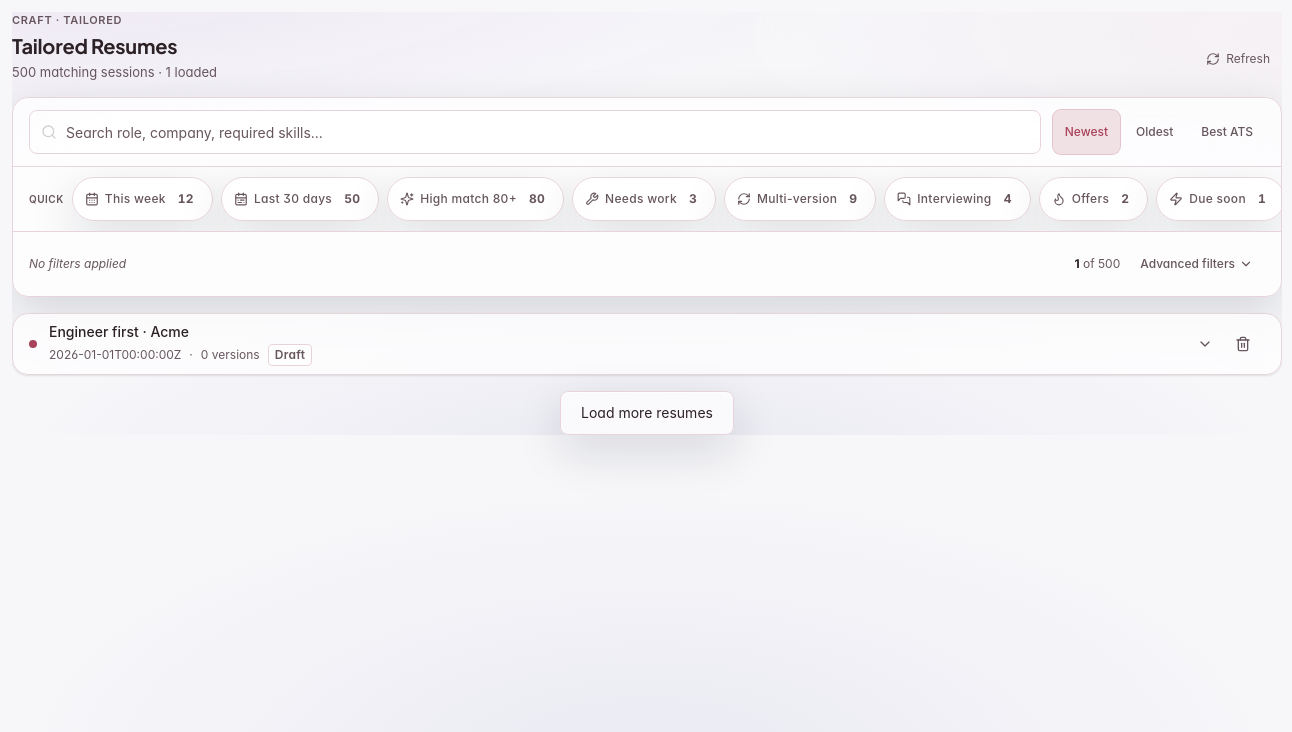
on-demand tailored history › a failed later page keeps existing rows and retries the same cursor
The width and height of the screenshot is (1292, 732).
Expected: the text "Engineer first · Acme" is shown, [49,323,189,340]
Click the button "Load more resumes" at (647, 413), box [560,391,734,435]
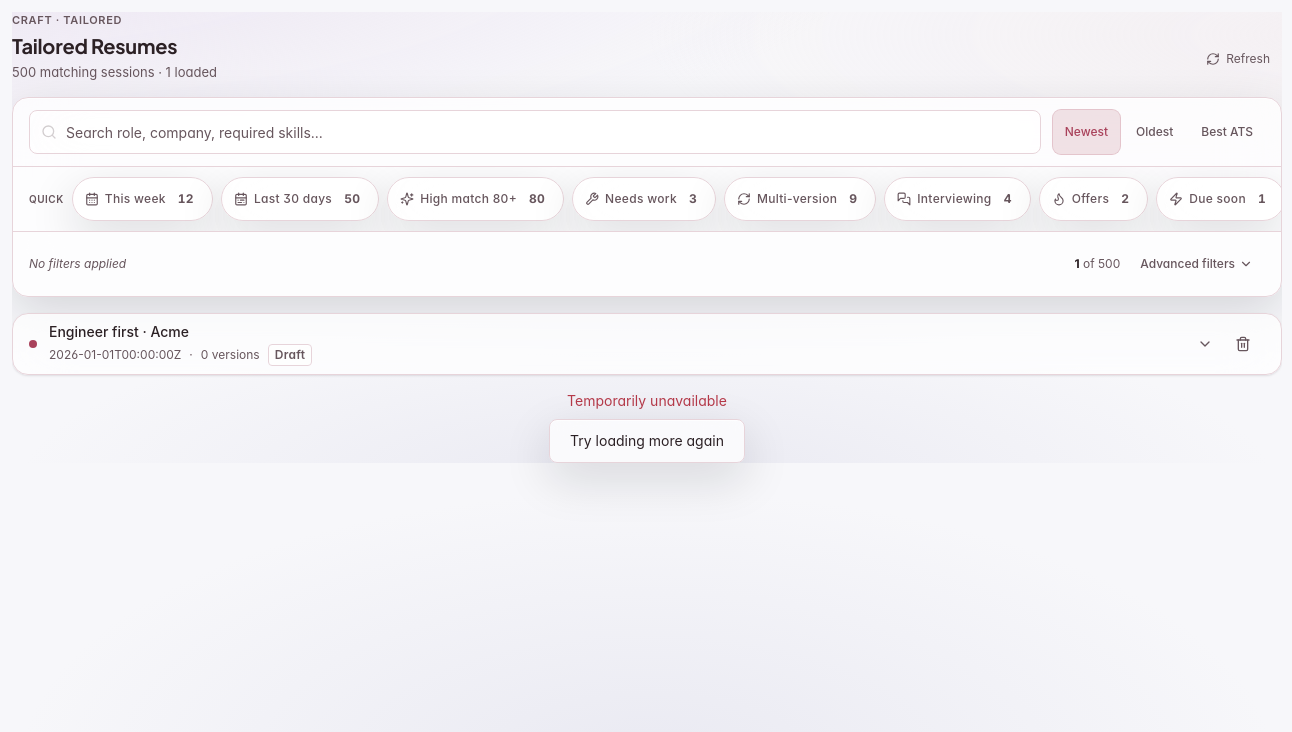
Expected: the text "Engineer first · Acme" is shown, [49,323,189,340]
Now the message "Temporarily unavailable" is shown, box [567,391,727,411]
Click the button "Try loading more again" at (647, 441), box [549,419,745,463]
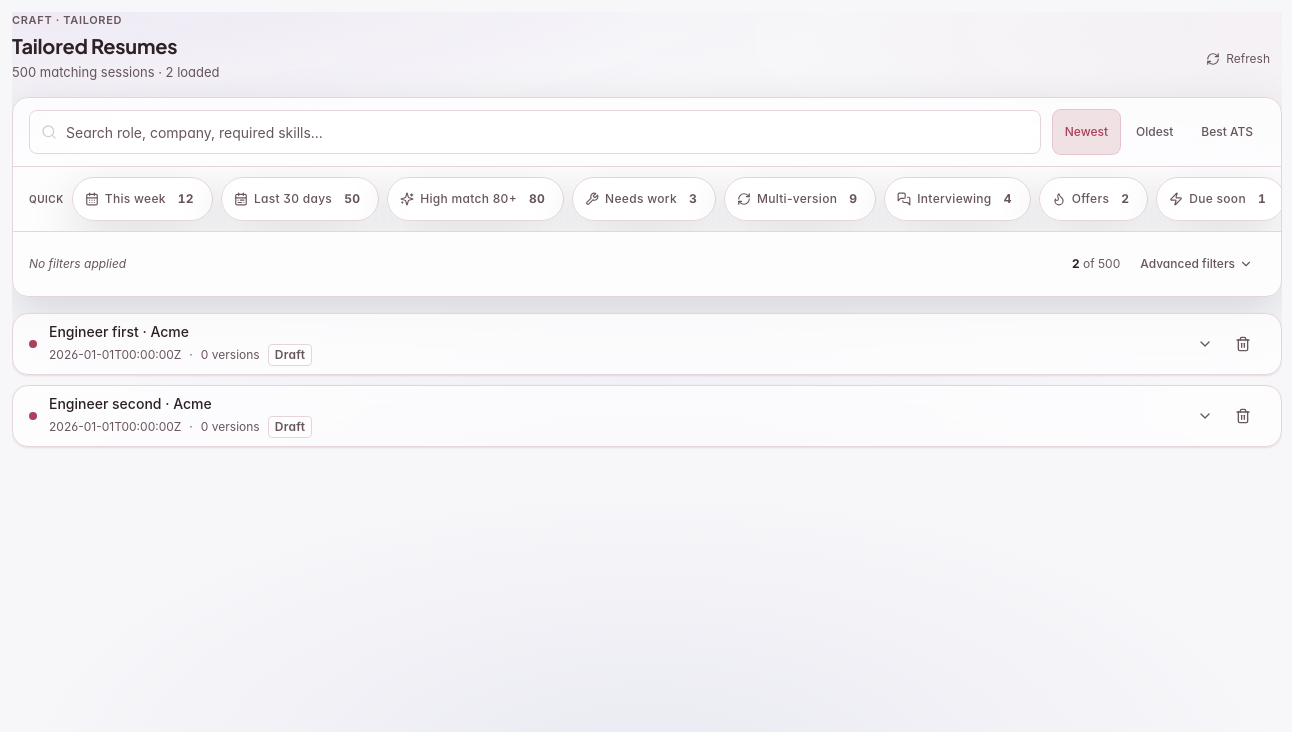
Now the text "Engineer second · Acme" is shown, box [49,395,212,412]
